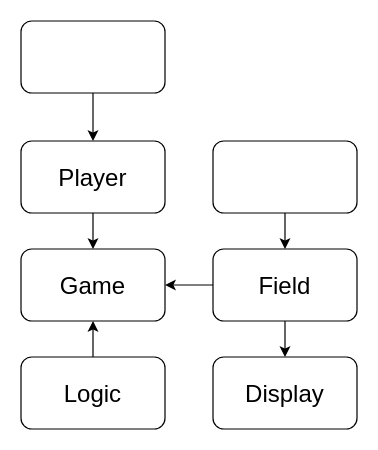
The diagram is 378 pixels wide and 450 high, and some of its shapes have lost their labels. The shapes that lost their labels are listed below. From the top down, each one's box as (x1, y1, x2, y2) in pixels, then its label:
(20, 20, 165, 93): Input
(212, 140, 357, 213): Cell
